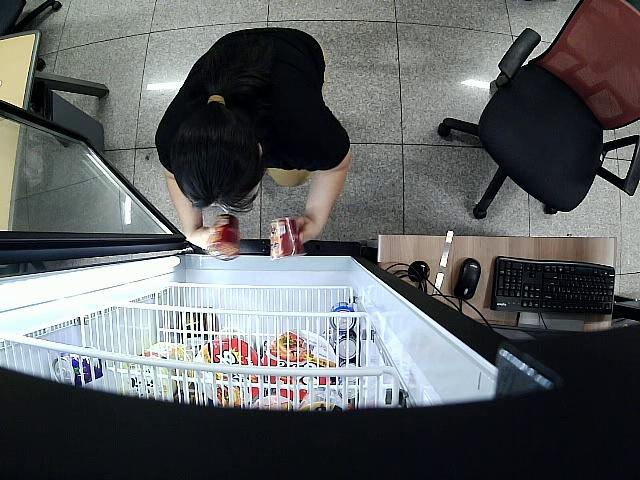00_hand: (294, 215, 322, 246), (192, 226, 219, 253)
06_nuguri_S: (267, 213, 301, 261), (209, 215, 243, 262)
